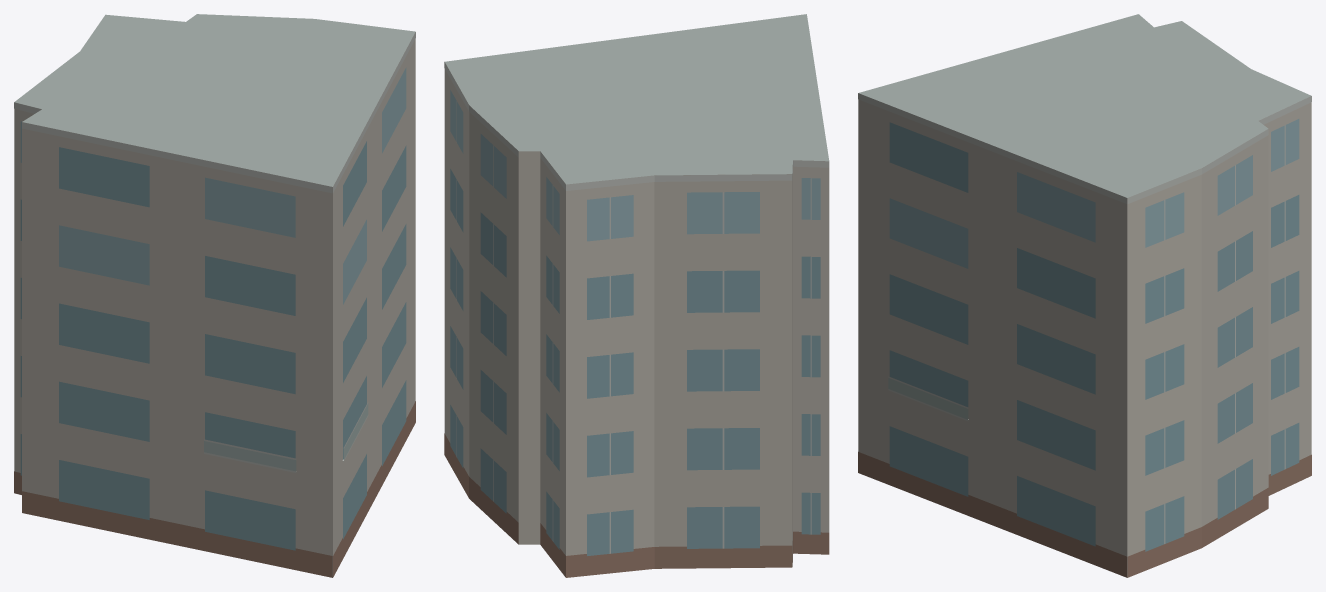
The model's file is survey-upis-32780410.glb.
The picture shows the model from 3 angles, left to right: view 1: azimuth 30°, elevation 25°; view 2: azimuth 150°, elevation 25°; view 3: azimuth 270°, elevation 25°; orthographic projection. The views are drawn at different scales.
Parts seen in each view (by area): view 1: survey-upis-32780410.tmp; view 2: survey-upis-32780410.tmp; view 3: survey-upis-32780410.tmp.
Boxes of the visible parts, x1=… form: survey-upis-32780410.tmp: x1=14, y1=14, x2=415, y2=577; survey-upis-32780410.tmp: x1=444, y1=14, x2=829, y2=577; survey-upis-32780410.tmp: x1=858, y1=14, x2=1311, y2=577.
Bounding box in the file's own units: 15.28 × 14.7 × 15.92.
